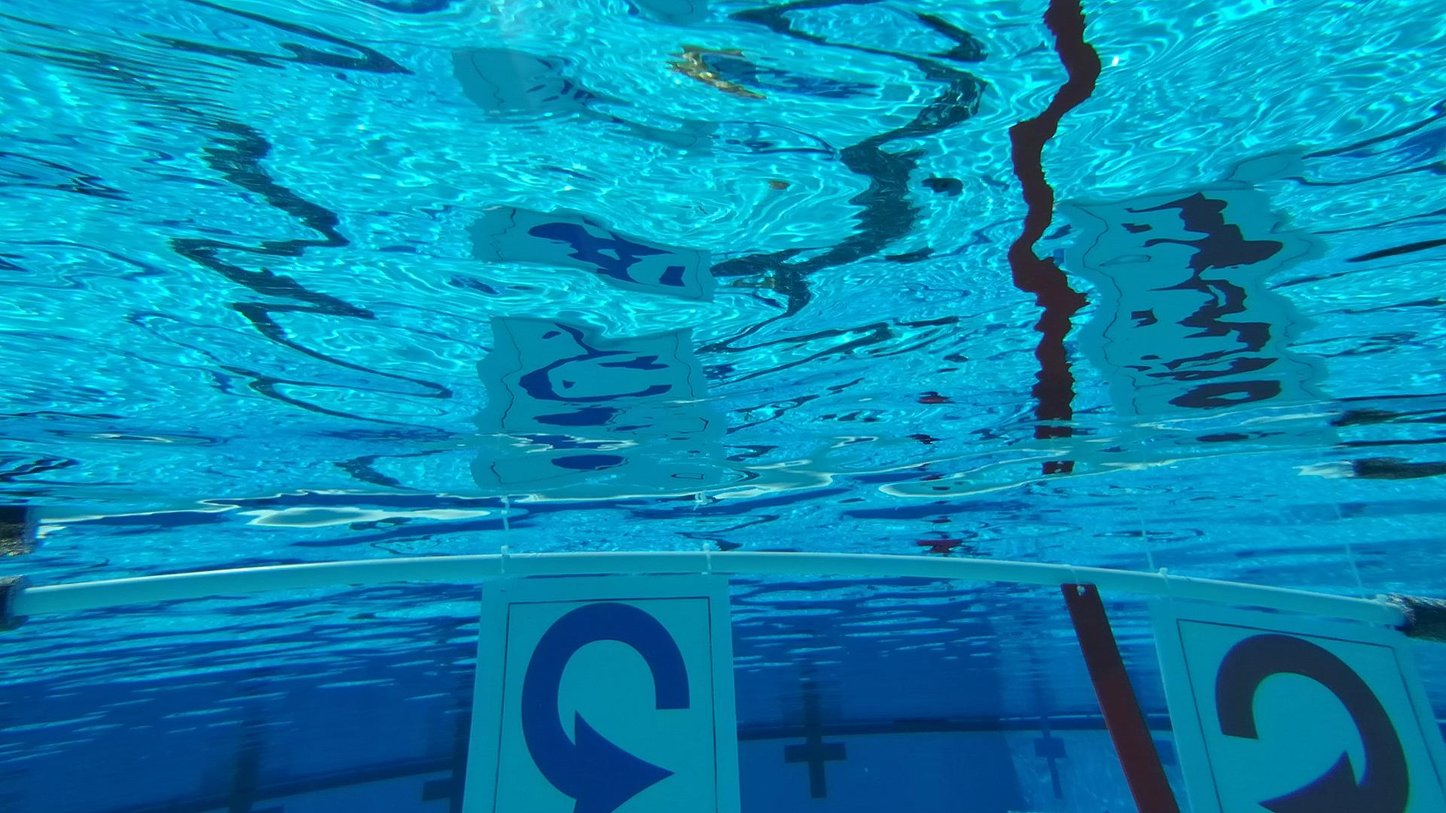blue-gate-sign: (460, 569, 742, 808)
red-gate-sign: (1163, 596, 1446, 813)
